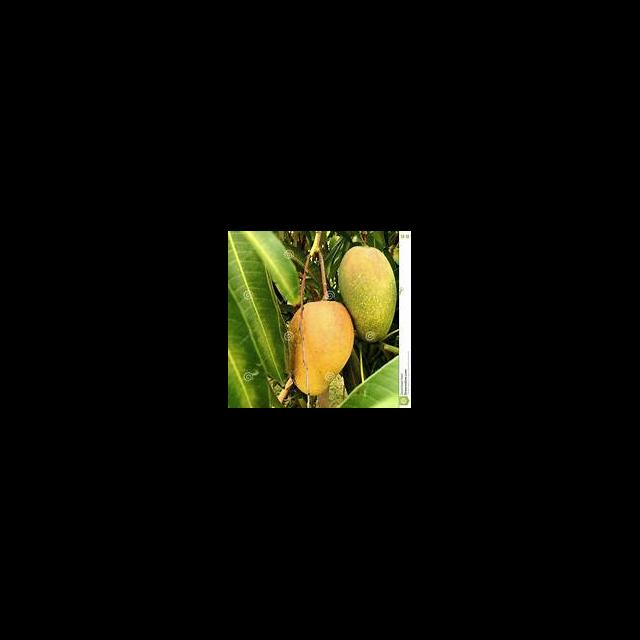mango: (281, 297, 352, 402), (339, 249, 398, 344)
